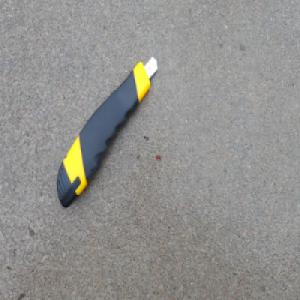Cutter: (56, 54, 158, 209)
